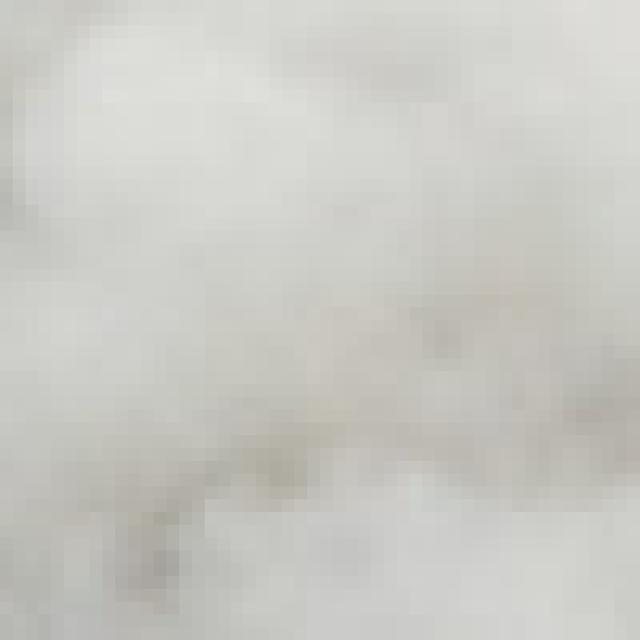no_fire: (18, 19, 632, 618)
